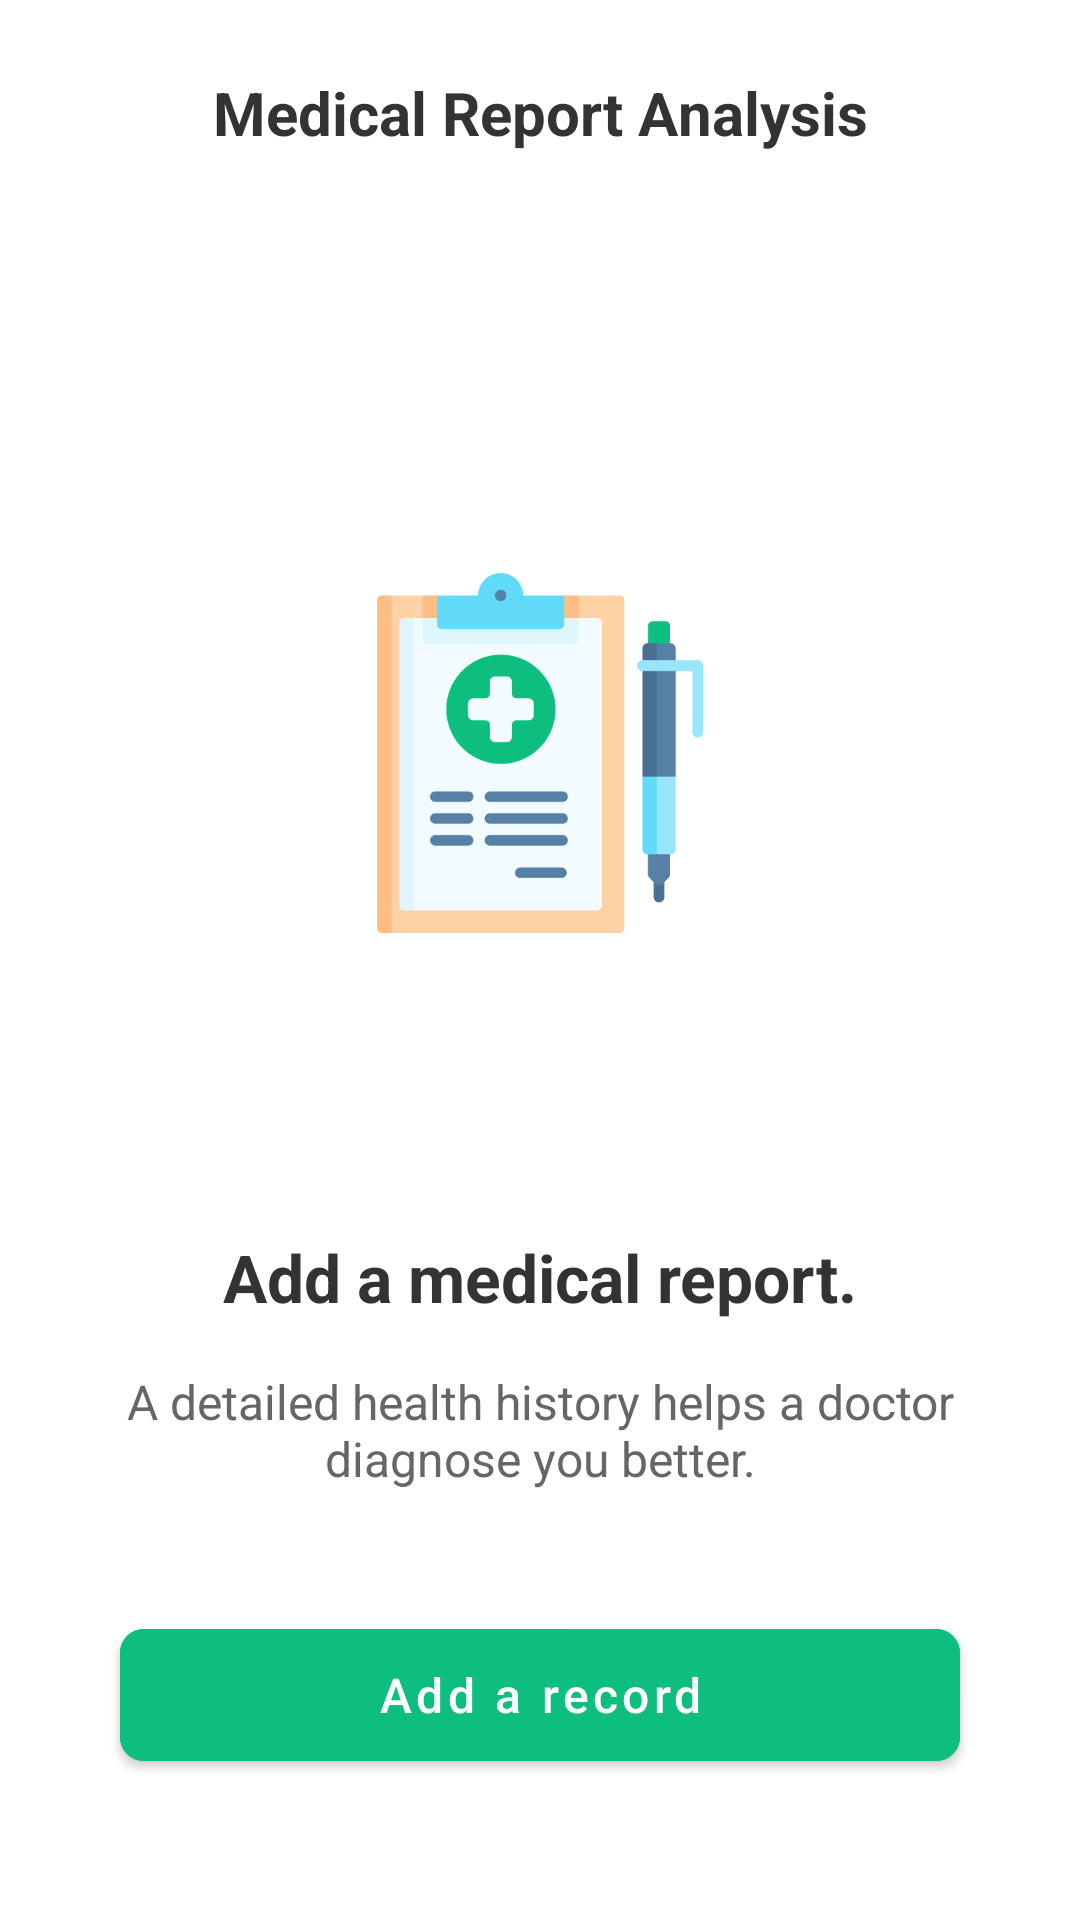

Icons on this 1080*1920 Android screen, each with the point to tap as point (x, y):
medical report: point (540, 753)
